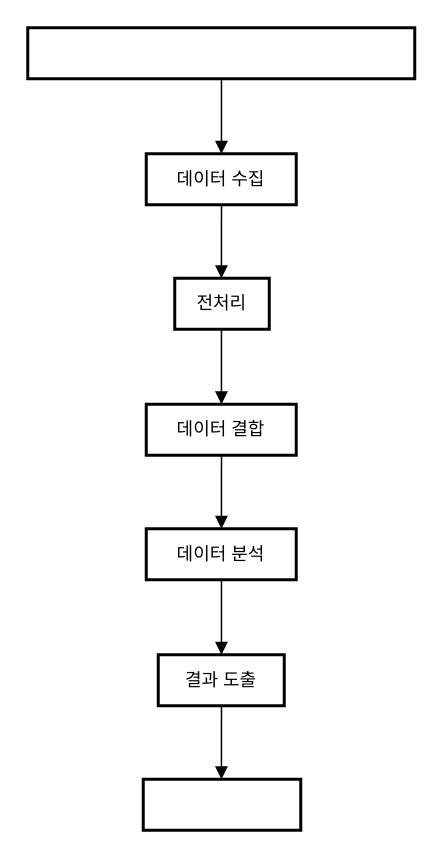
The diagram is 441 pixels wide and 857 high, and some of its shapes have lost their labels. The shapes that lost their labels are listed below. From the top down, each one's centre as x and y in pixels, then its label:
At [221,53]: "데이터 결합과 분석을 위한 순서도".
At [221,804]: "평가 및 해석".
